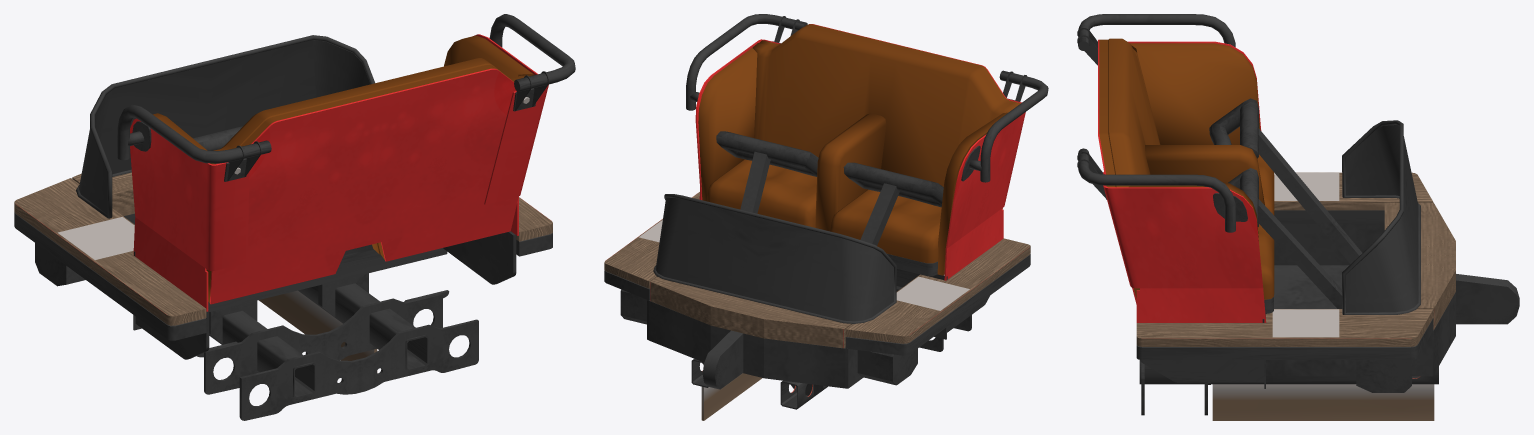
The model's file is millfly.glb.
3 renders of one model, left to right at view 1: azimuth 30°, elevation 25°; view 2: azimuth 150°, elevation 25°; view 3: azimuth 270°, elevation 25°, orthographic. The views are drawn at different scales.
Visible parts, largest first — view 1: Rear Plate, Windscreen, Side Plates, Wood, Wheel Frame.001, Handles.001, Seat, Chassis Tubes, Plate Metal.003, Plane.001, Plane, Supports.001 (+2 smaller); view 2: Seat, Windscreen, Wood, Backframe, Side Plates, Restraints, Divider, Handles.001, Plane, Chassis Tubes, Seat.001, Plane.001 (+1 smaller); view 3: Wood, Side Plates, Seat, Backframe, Windscreen, Plane, Restraints, Handles.001, Divider, Plate Metal.003, Chassis Tubes.
Boxes of the visible parts, <box> form: Rear Plate: <box>210,68,518,304</box>; Windscreen: <box>76,35,374,218</box>; Side Plates: <box>130,34,548,311</box>; Wood: <box>14,172,552,340</box>; Wheel Frame.001: <box>197,290,478,420</box>; Handles.001: <box>117,14,575,181</box>; Seat: <box>153,35,534,303</box>; Chassis Tubes: <box>209,283,428,398</box>; Plate Metal.003: <box>135,231,516,359</box>; Plane.001: <box>133,248,447,330</box>; Plane: <box>259,290,377,372</box>; Supports.001: <box>209,273,368,343</box>; Seat: <box>698,24,1020,275</box>; Windscreen: <box>653,194,896,324</box>; Wood: <box>604,192,1030,355</box>; Backframe: <box>620,289,917,389</box>; Side Plates: <box>695,39,1025,280</box>; Restraints: <box>716,131,943,245</box>; Divider: <box>815,113,886,231</box>; Handles.001: <box>686,14,1048,182</box>; Plane: <box>701,373,762,420</box>; Chassis Tubes: <box>691,359,827,409</box>; Seat.001: <box>887,253,937,276</box>; Plane.001: <box>896,269,947,339</box>; Wood: <box>1136,172,1455,359</box>; Side Plates: <box>1103,41,1266,322</box>; Seat: <box>1099,38,1274,299</box>; Backframe: <box>1266,223,1519,392</box>; Windscreen: <box>1342,120,1420,314</box>; Plane: <box>1212,384,1434,420</box>; Restraints: <box>1209,98,1362,308</box>; Handles.001: <box>1077,14,1247,232</box>; Divider: <box>1145,145,1264,204</box>; Plate Metal.003: <box>1140,360,1264,382</box>; Chassis Tubes: <box>1139,360,1438,384</box>.
Size of the model in its own units: 1.24 by 1.08 by 1.4.
Materials: 2 (1 with a texture image).
